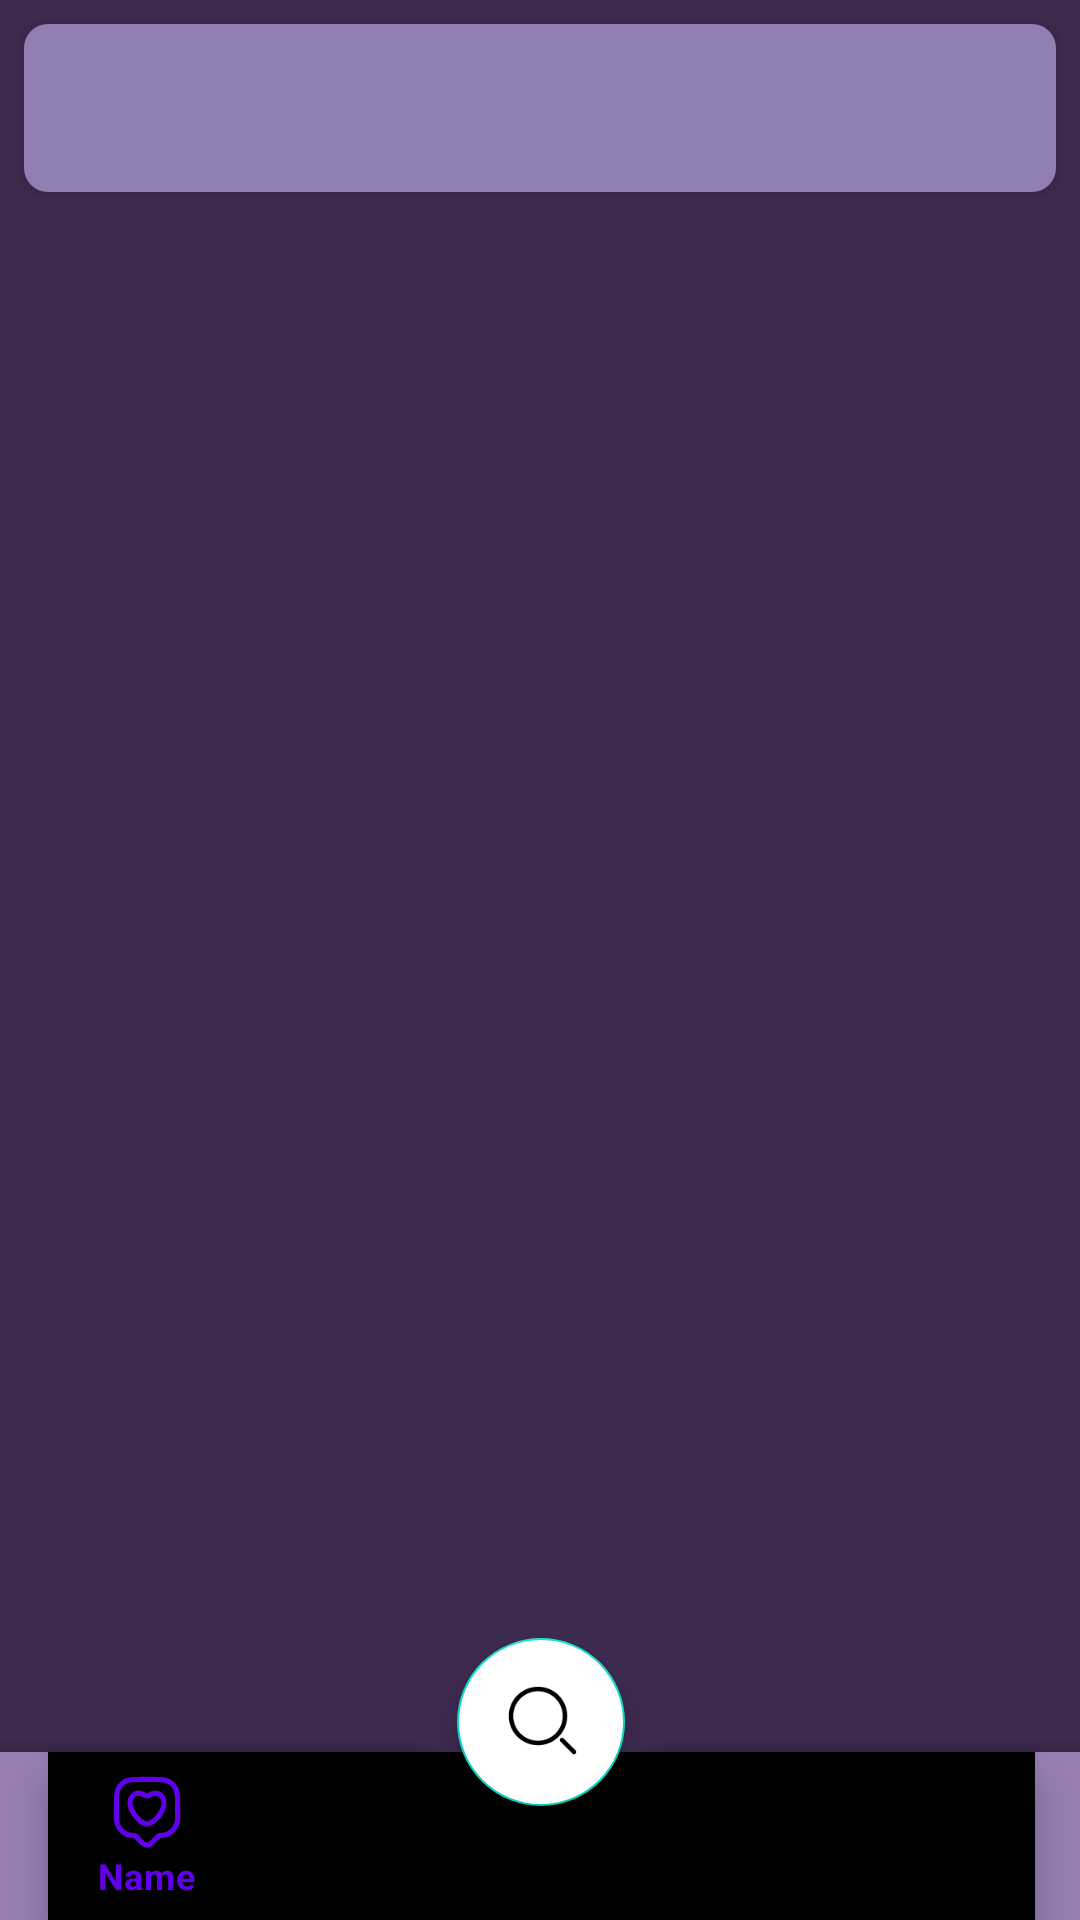

Named icons in this screenshot (1080×1920) and their centers, (x=x, y=y):
search: (x=541, y=1752)
